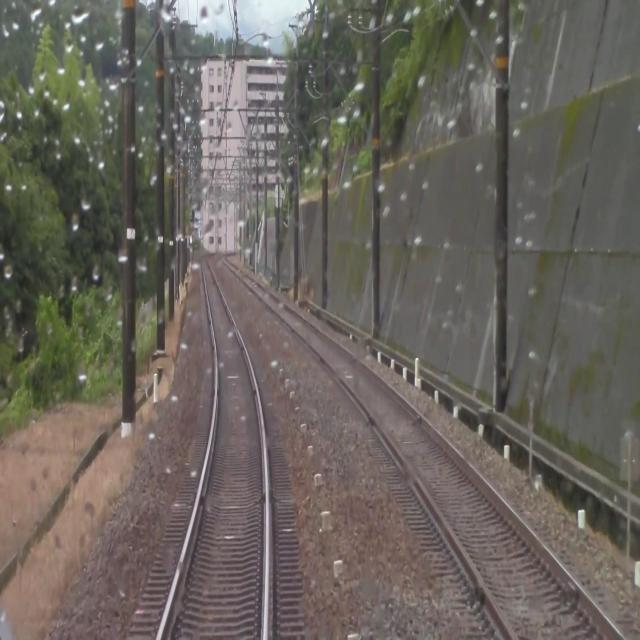rail-track: (223, 255, 621, 639), (160, 255, 265, 639)
